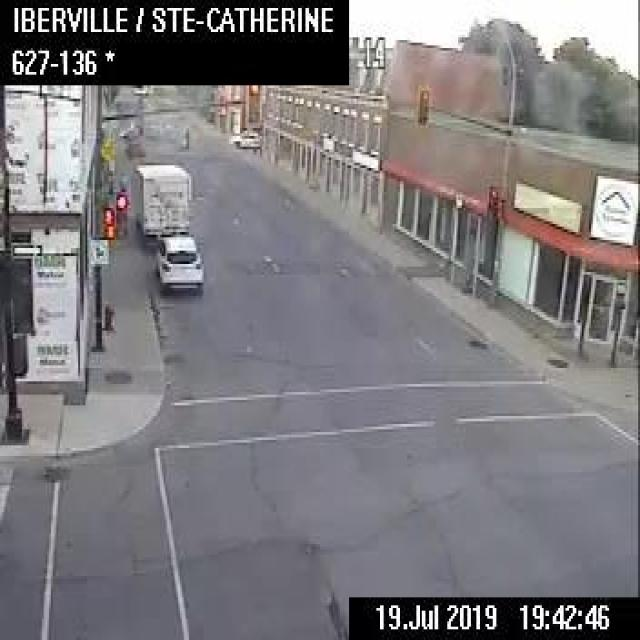vehicle: (130, 157, 189, 235), (152, 233, 202, 293), (231, 131, 262, 149)
